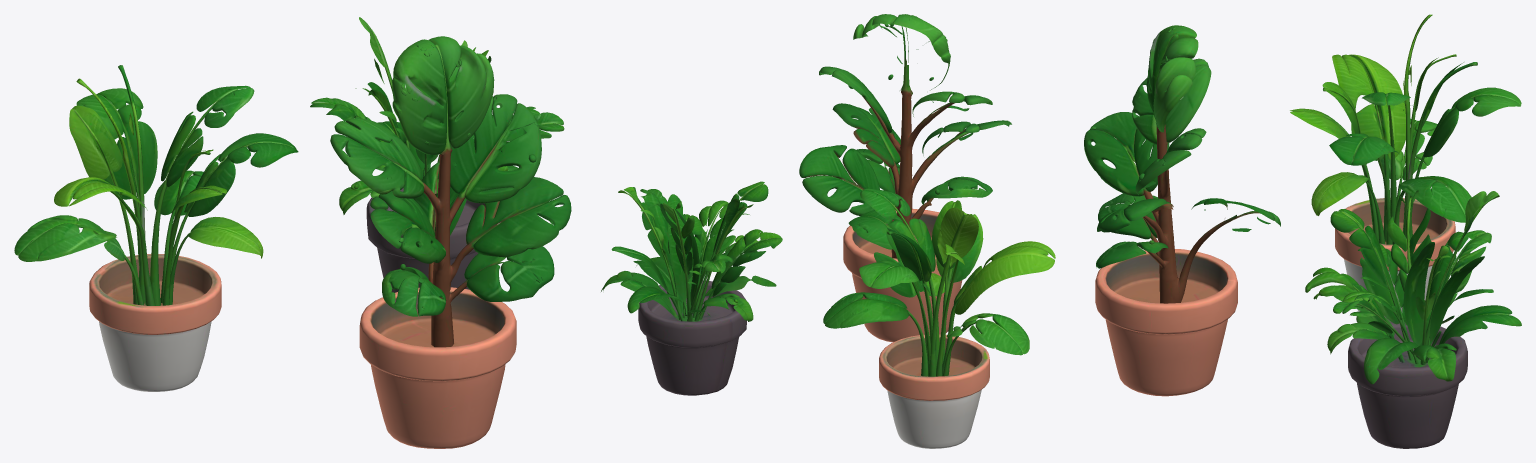
File: toonstudio_potted_plant.glb
The picture shows the model from 3 angles, left to right: view 1: azimuth 30°, elevation 25°; view 2: azimuth 150°, elevation 25°; view 3: azimuth 270°, elevation 25°; orthographic projection. The views are drawn at different scales.
Visible parts, largest first — view 1: tripo_6808aa3c_02dd_49de_9803_9e97634e83bb; view 2: tripo_6808aa3c_02dd_49de_9803_9e97634e83bb; view 3: tripo_6808aa3c_02dd_49de_9803_9e97634e83bb.
Boxes of the visible parts, left/top/right/bottom form: tripo_6808aa3c_02dd_49de_9803_9e97634e83bb: left=14, top=17, right=571, bottom=448; tripo_6808aa3c_02dd_49de_9803_9e97634e83bb: left=601, top=14, right=1055, bottom=448; tripo_6808aa3c_02dd_49de_9803_9e97634e83bb: left=1084, top=14, right=1521, bottom=448.
Size of the model in its own units: 1 by 0.7255 by 0.8271.
Materials: 1 (1 with a texture image).
